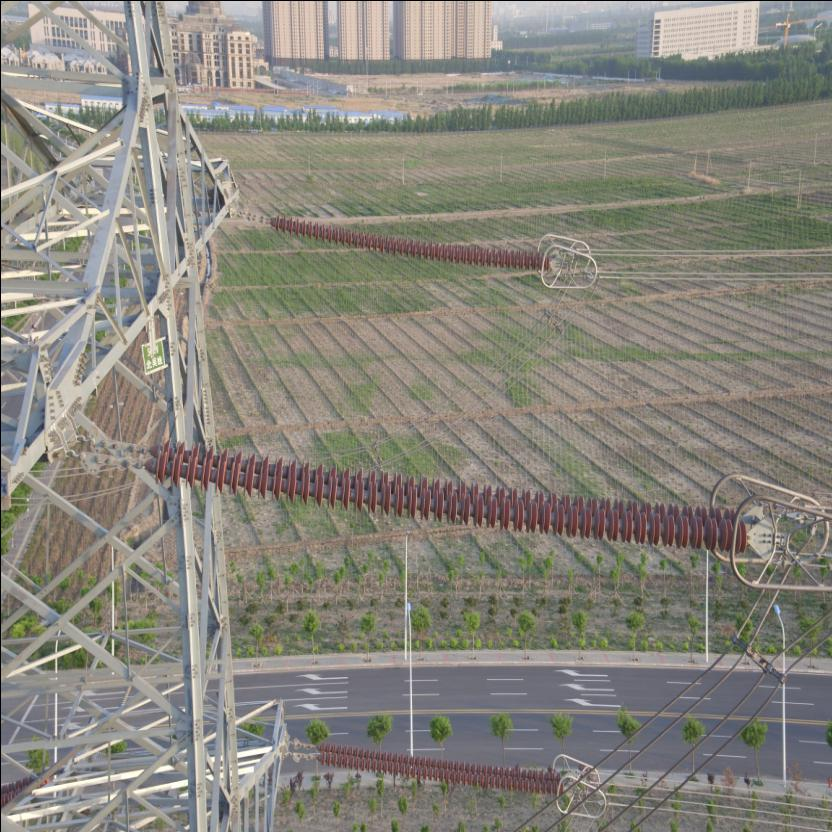insulator: (115, 431, 758, 554), (253, 208, 554, 276), (300, 740, 568, 798)
